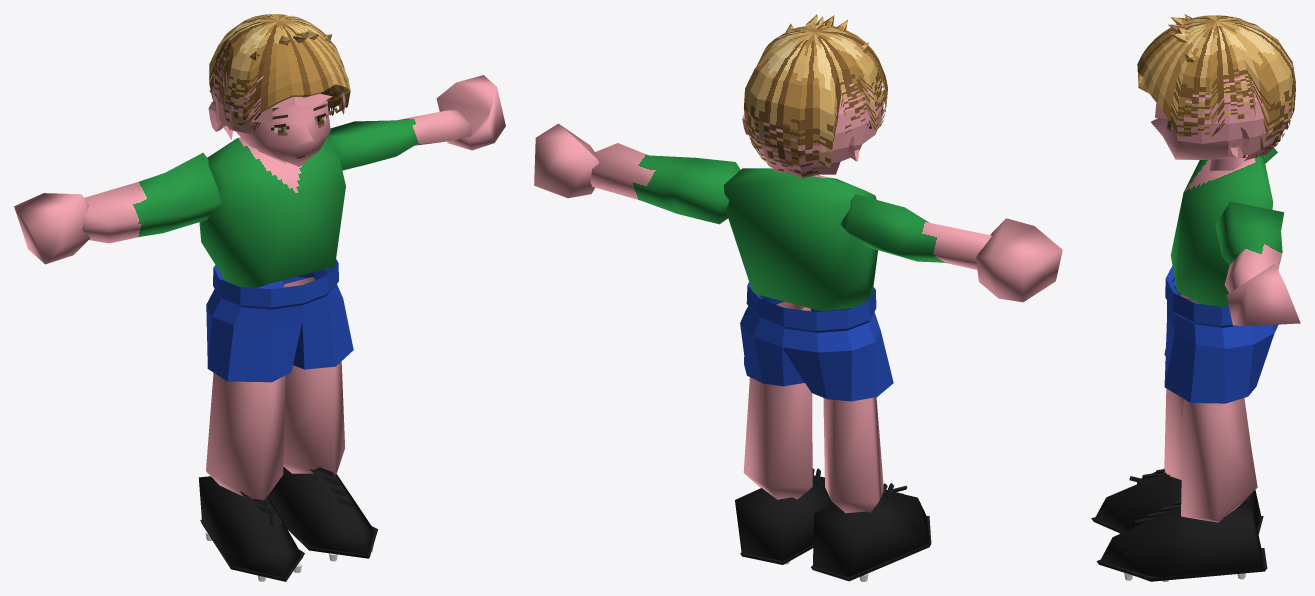
The model's file is 02-jogador-degrade_loiro-natural.glb.
The picture shows the model from 3 angles, left to right: view 1: azimuth 30°, elevation 25°; view 2: azimuth 150°, elevation 25°; view 3: azimuth 270°, elevation 25°; orthographic projection. The views are drawn at different scales.
Parts seen in each view (by area): view 1: Camisa_Tronco, Bermuda, Cabelo, Perna.R, Braco.R, Perna.L, Chuteira.R, Chuteira.L, Braco.L, Mao.R, Cabeca, Mao.L (+2 smaller); view 2: Camisa_Tronco, Cabelo, Bermuda, Perna.L, Braco.L, Chuteira.R, Perna.R, Braco.R, Mao.R, Chuteira.L, Couro_Cabeludo, Mao.L (+1 smaller); view 3: Cabelo, Bermuda, Chuteira.L, Camisa_Tronco, Perna.L, Braco.L, Couro_Cabeludo, Mao.L, Chuteira.R, Perna.R, Cabeca, Chuteira_Sola.L (+4 smaller).
Boxes of the visible parts, x1,y1,x2,y2 form: Camisa_Tronco: (199,137,345,288); Bermuda: (206,259,353,382); Cabelo: (209,14,350,130); Perna.R: (206,373,285,504); Braco.R: (82,152,221,243); Perna.L: (283,277,345,475); Chuteira.R: (198,476,302,577); Chuteira.L: (268,467,373,554); Braco.L: (327,110,472,170); Mao.R: (14,193,89,264); Cabeca: (235,100,330,166); Mao.L: (436,75,505,150); Camisa_Tronco: (723,168,877,311); Cabelo: (743,14,887,176); Bermuda: (740,282,893,401); Perna.L: (743,301,812,499); Braco.L: (590,143,740,224); Chuteira.R: (813,490,929,576); Perna.R: (823,397,883,513); Braco.R: (840,194,991,269); Mao.R: (976,218,1062,302); Chuteira.L: (735,475,834,561); Couro_Cabeludo: (751,83,883,178); Mao.L: (534,123,598,198); Cabelo: (1137,14,1295,158); Bermuda: (1164,266,1278,403); Chuteira.L: (1100,501,1264,581); Camisa_Tronco: (1170,155,1273,306); Perna.L: (1181,398,1257,522); Braco.L: (1215,201,1284,293); Couro_Cabeludo: (1155,76,1294,160); Mao.L: (1226,264,1300,326); Chuteira.R: (1095,472,1260,531); Perna.R: (1164,294,1250,479); Cabeca: (1151,118,1242,159); Chuteira_Sola.L: (1096,548,1267,581).
Size of the model in its own units: 0.4523 by 0.4543 by 0.1617.
3 materials, 3 textured.
